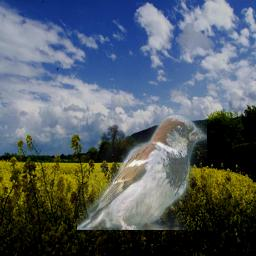Sparrow: (77, 114, 207, 230)
